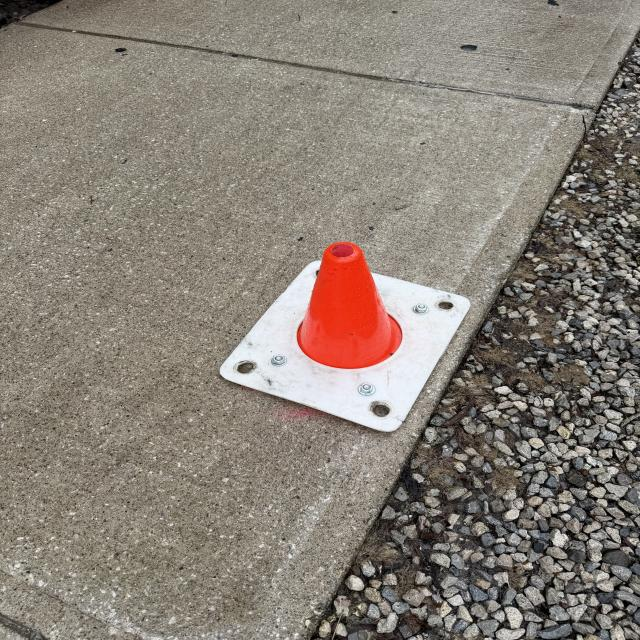Traffic Cone: (214, 242, 472, 434)
